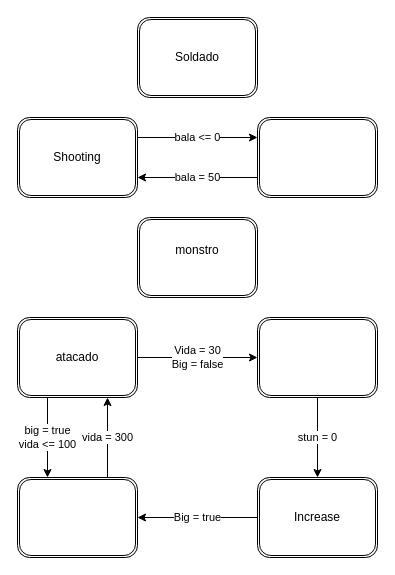
The diagram is 395 pixels wide and 575 high, and some of its shapes have lost their labels. The shapes that lost their labels are listed below. From the top down, each one's box as (x1, y1, x2, y2) in pixels, then its label:
(256, 116, 378, 198): Reloading
(256, 316, 378, 398): stunned
(16, 476, 138, 558): Heal
